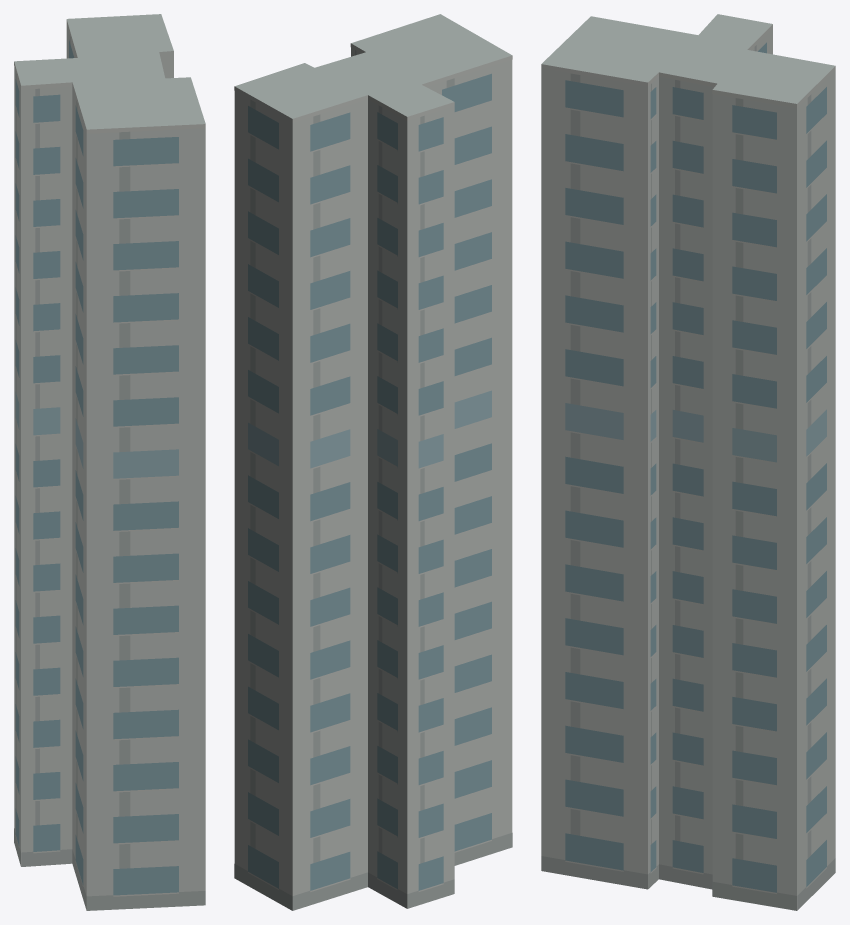
Rendered from survey-upis-32701029.glb.
3 views of the same model, side by side, from view 1: azimuth 30°, elevation 25°; view 2: azimuth 150°, elevation 25°; view 3: azimuth 270°, elevation 25° (orthographic). The views are drawn at different scales.
Visible parts, largest first — view 1: survey-upis-32701029.tmp; view 2: survey-upis-32701029.tmp; view 3: survey-upis-32701029.tmp.
Part boxes in pixels (bbox=[...]): survey-upis-32701029.tmp: bbox=[14, 14, 205, 910]; survey-upis-32701029.tmp: bbox=[234, 14, 512, 910]; survey-upis-32701029.tmp: bbox=[541, 14, 835, 910].
Bounding box in the file's own units: 10.95 × 45.75 × 15.14.
